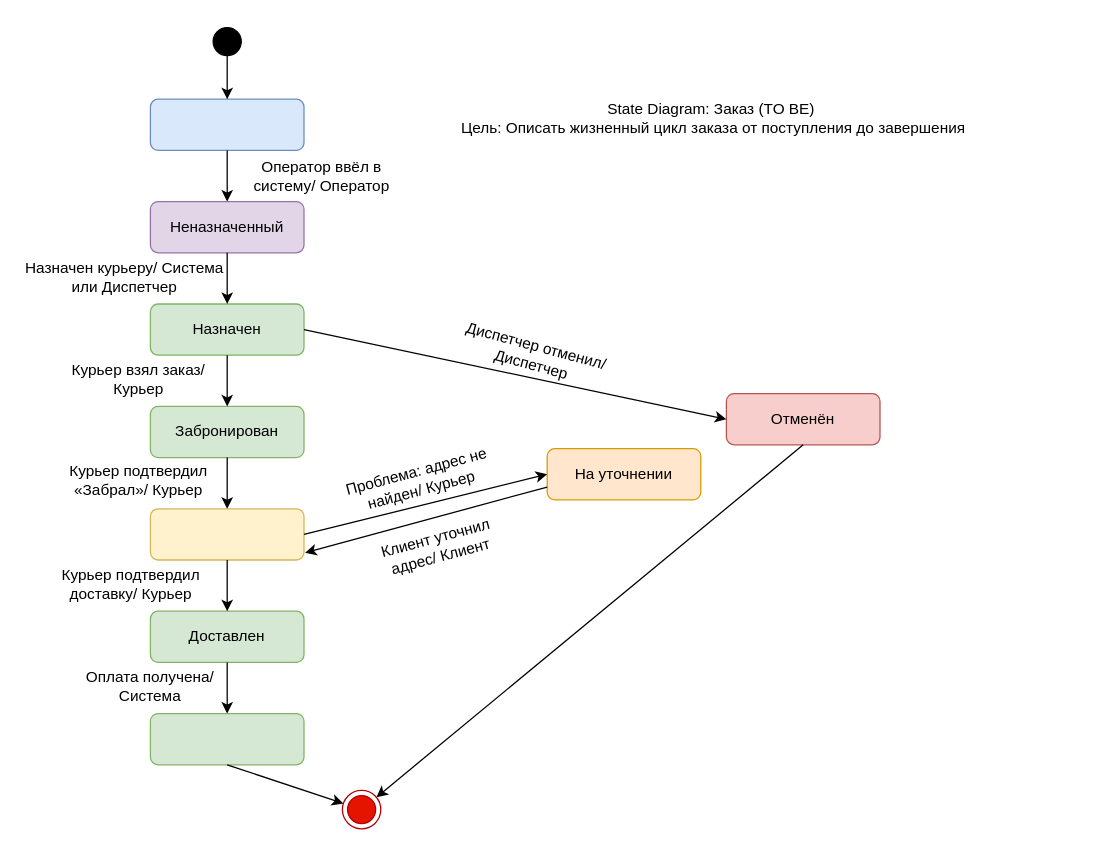
This 1093x851 diagram has some shape labels left out. Here are the shapes that lost their labels. From the top down, the box of each, then its label:
(149, 98, 304, 150): Принят
(149, 508, 304, 560): В пути
(149, 712, 304, 765): Завершён
